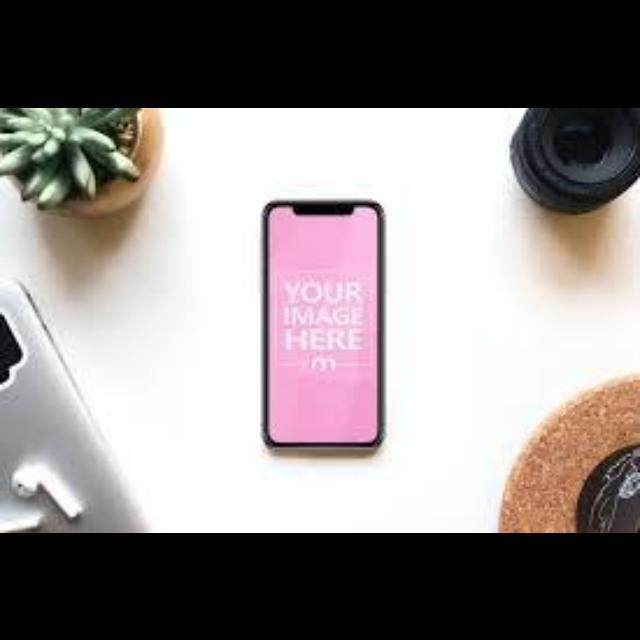PhoneUse: (260, 196, 386, 449)
